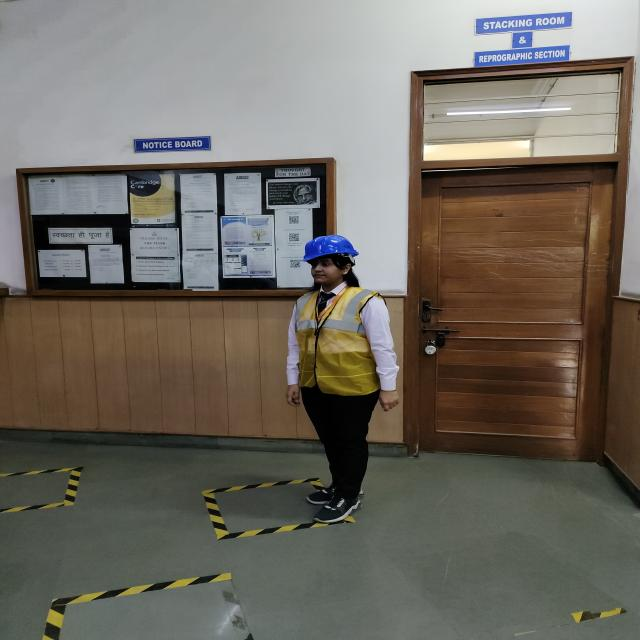safe: (284, 235, 388, 523)
